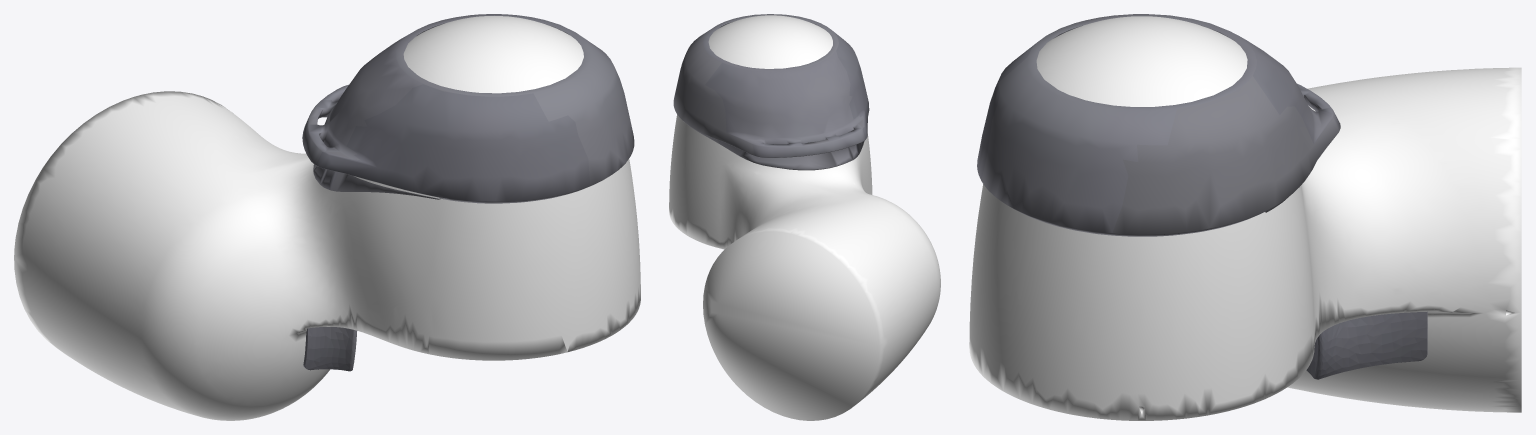
3 views of the same model, side by side, from view 1: azimuth 30°, elevation 25°; view 2: azimuth 150°, elevation 25°; view 3: azimuth 270°, elevation 25° (orthographic). The views are drawn at different scales.
Parts seen in each view (by area): view 1: node3_Part__Feature003.003, node0_001_Part__Feature.006, node2_Part__Feature002.004; view 2: node3_Part__Feature003.003, node0_001_Part__Feature.006; view 3: node3_Part__Feature003.003, node0_001_Part__Feature.006, node1_Part__Feature001.004.
Part boxes in pixels (x1,y1,x2,y2): node3_Part__Feature003.003: (14, 16, 640, 420); node0_001_Part__Feature.006: (302, 14, 634, 203); node2_Part__Feature002.004: (303, 327, 356, 371); node3_Part__Feature003.003: (669, 15, 940, 420); node0_001_Part__Feature.006: (673, 14, 869, 170); node3_Part__Feature003.003: (969, 16, 1521, 420); node0_001_Part__Feature.006: (977, 14, 1340, 236); node1_Part__Feature001.004: (1306, 311, 1427, 379).
Bounding box in the file's own units: 0.1925 × 0.1661 × 0.176.
4 materials, 4 textured.
